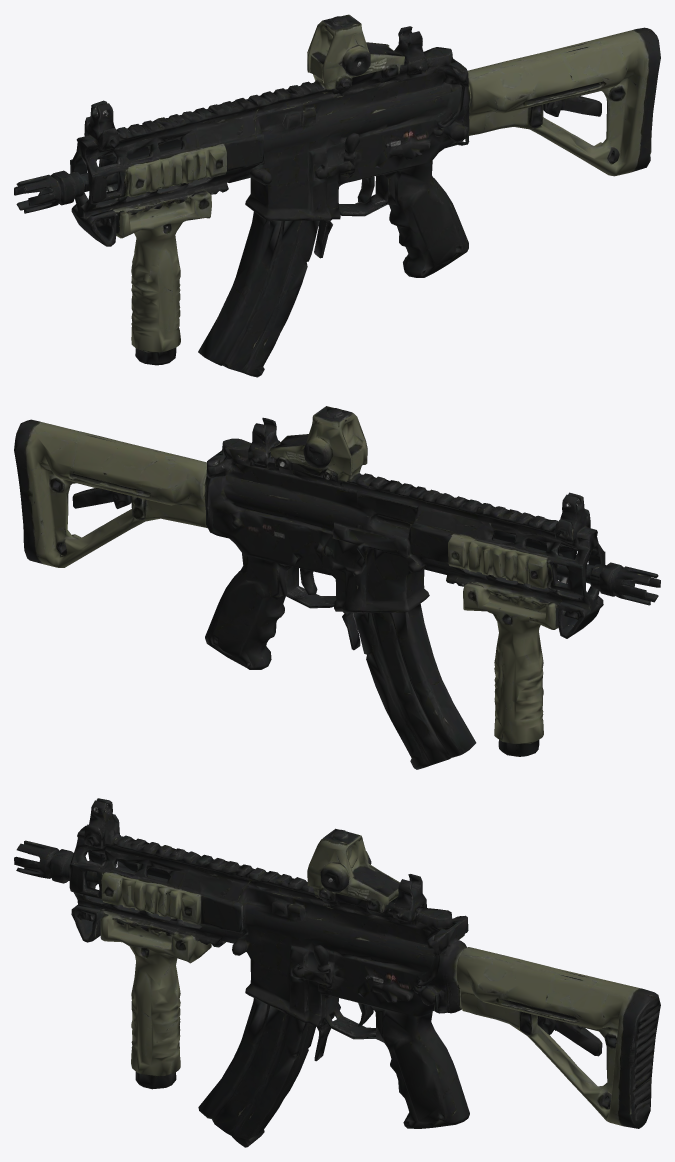
The model's file is gun_pdw.glb.
3 views of the same model, one above another, from view 1: azimuth 30°, elevation 25°; view 2: azimuth 150°, elevation 25°; view 3: azimuth 330°, elevation 25° (orthographic).
Size of the model in its own units: 1.9 by 0.9537 by 0.1903.
Materials: 1 (1 with a texture image).
